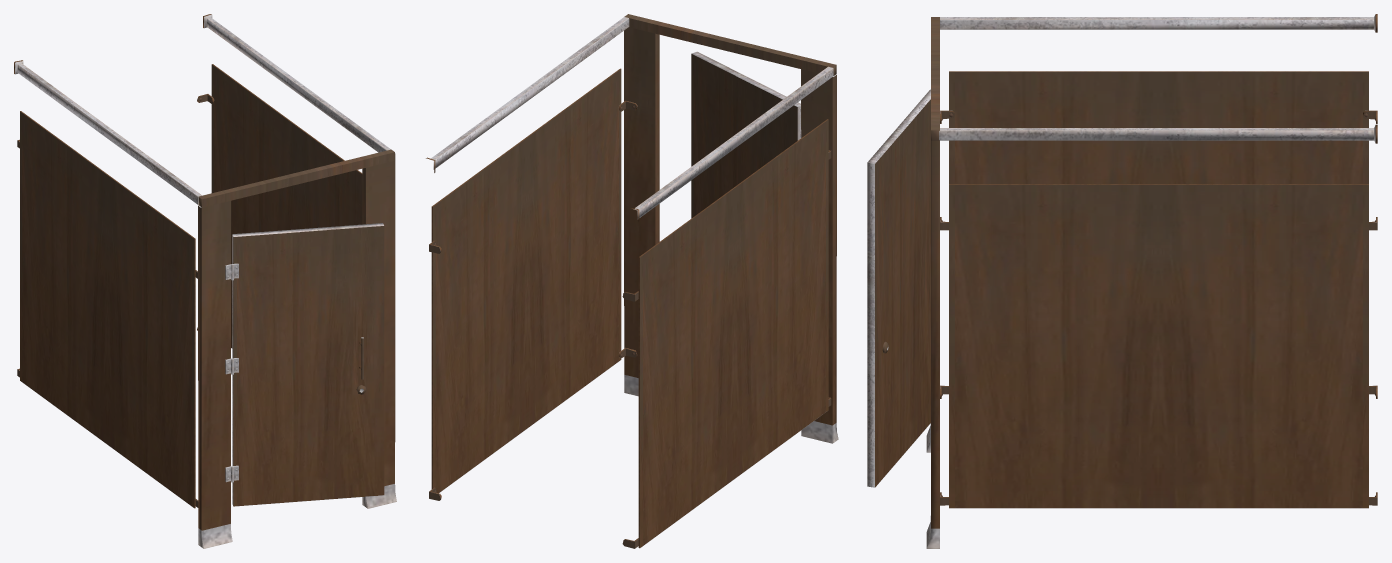
The model's file is bathroom_stall_b.glb.
3 views of the same model, side by side, from view 1: azimuth 30°, elevation 25°; view 2: azimuth 150°, elevation 25°; view 3: azimuth 270°, elevation 25° (orthographic). The views are drawn at different scales.
Parts seen in each view (by area): view 1: bathroom_stall_b; view 2: bathroom_stall_b; view 3: bathroom_stall_b.
Boxes of the visible parts, <box> form: bathroom_stall_b: <box>14,14,396,548</box>; bathroom_stall_b: <box>426,14,838,548</box>; bathroom_stall_b: <box>867,14,1377,548</box>.
Bounding box in the file's own units: 1.53 × 2.6 × 2.86.
Materials: 1 (1 with a texture image).
